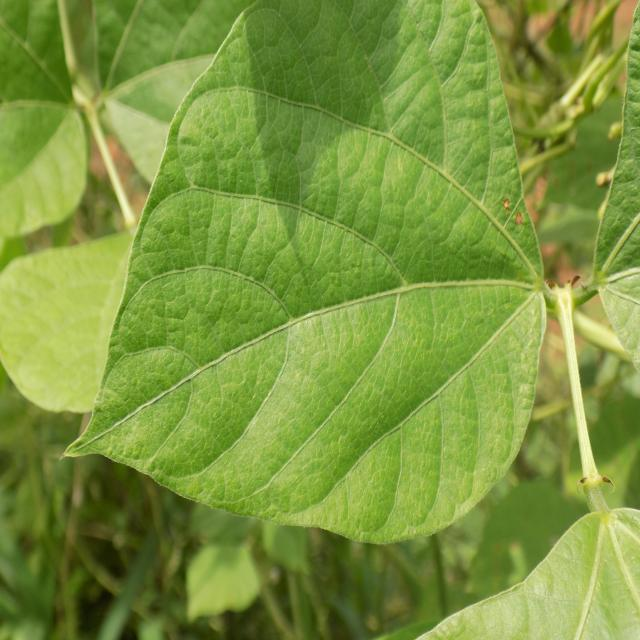Dolicos bean_healthy: (63, 0, 544, 545)
